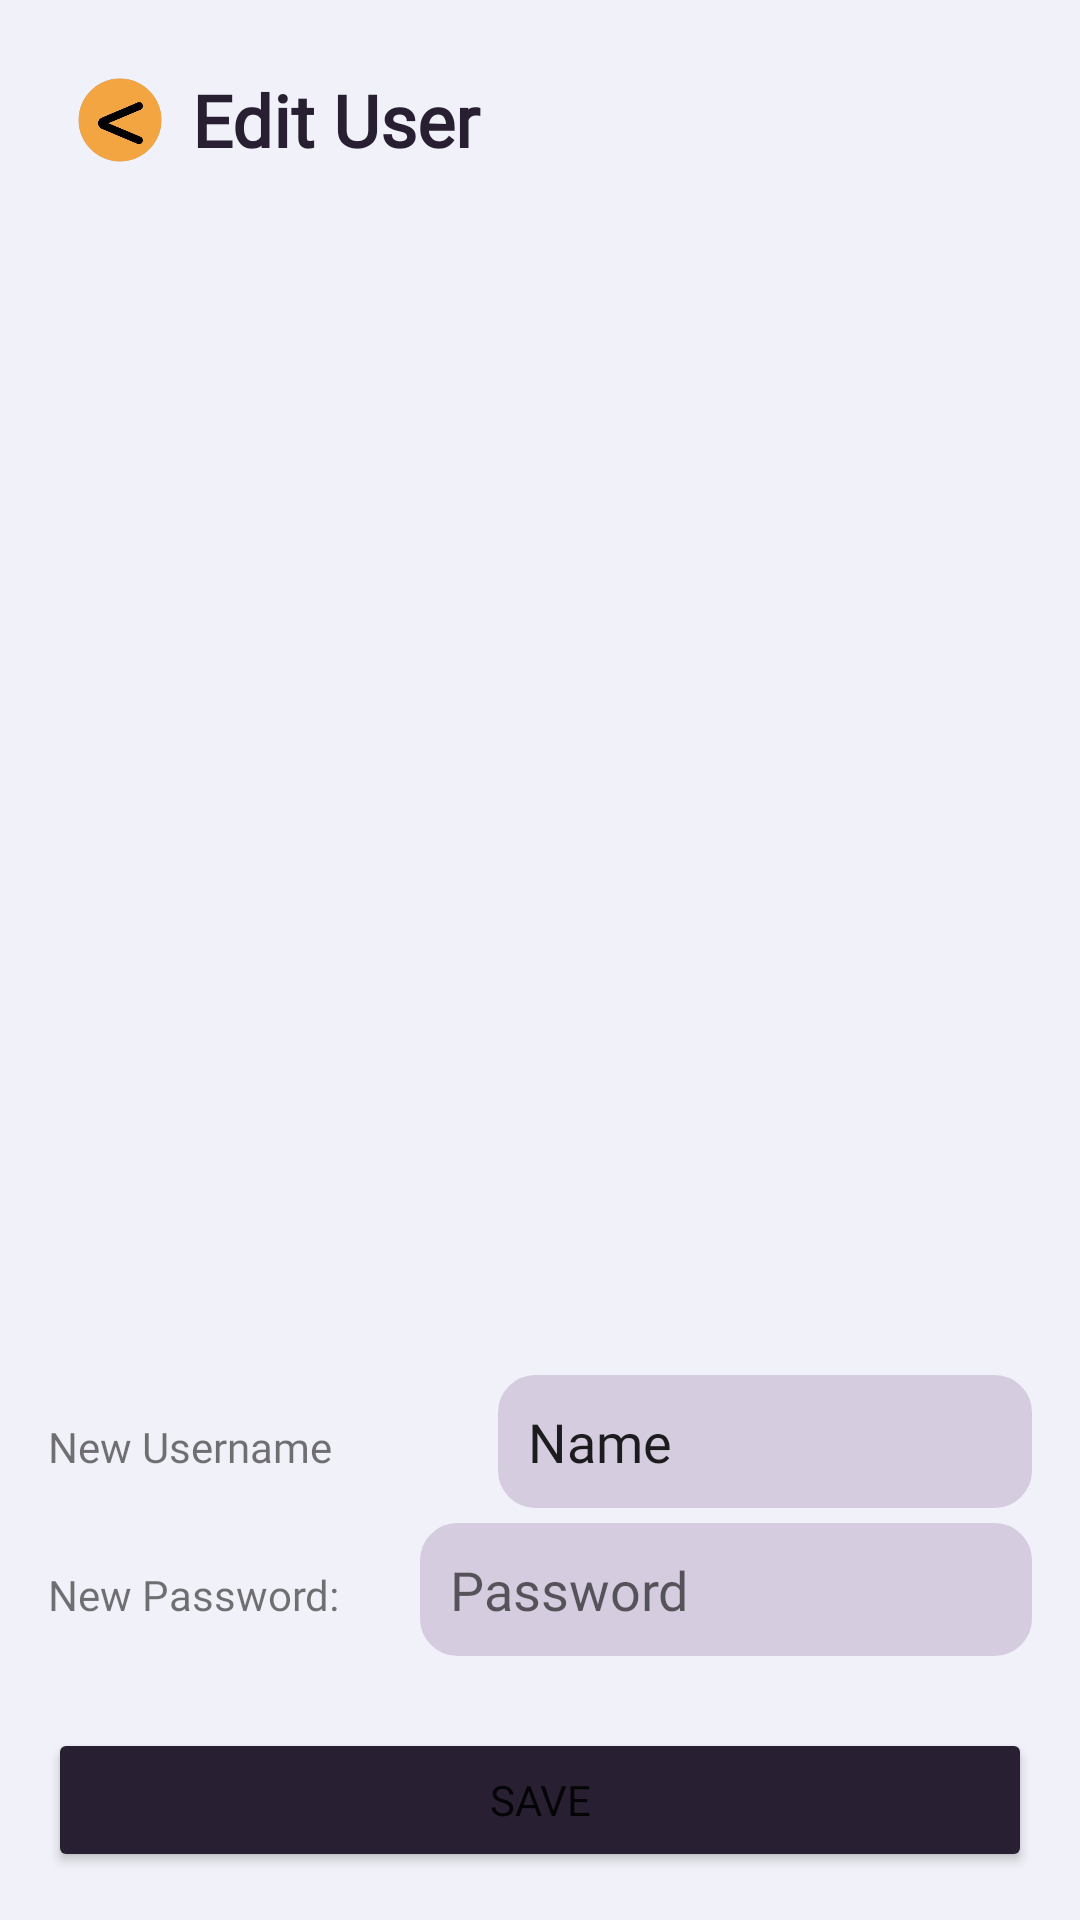

Icon bounding boxes for this 1080 × 1920 phone screenshot, format (x1, y1, x2, y2):
Back Button: (78, 78, 162, 162)
